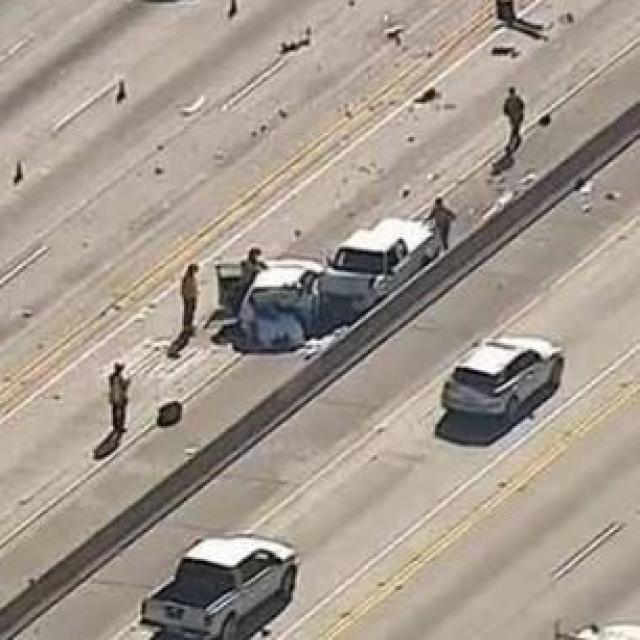traffic_incident: (226, 172, 433, 366)
